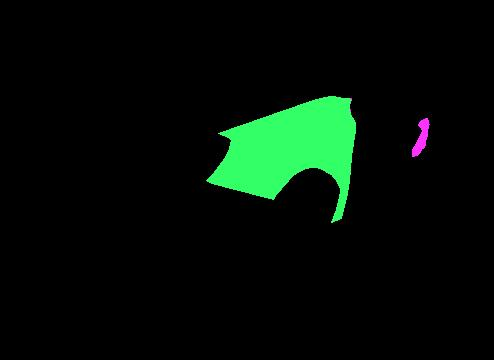Broken part: (206, 96, 355, 222)
Dent: (300, 96, 351, 172), (238, 115, 281, 133), (412, 118, 429, 156)
